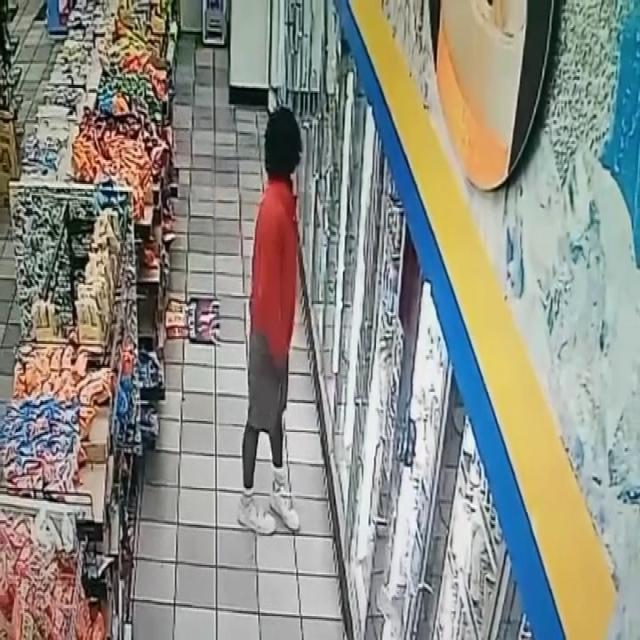normal: (235, 100, 306, 545)
